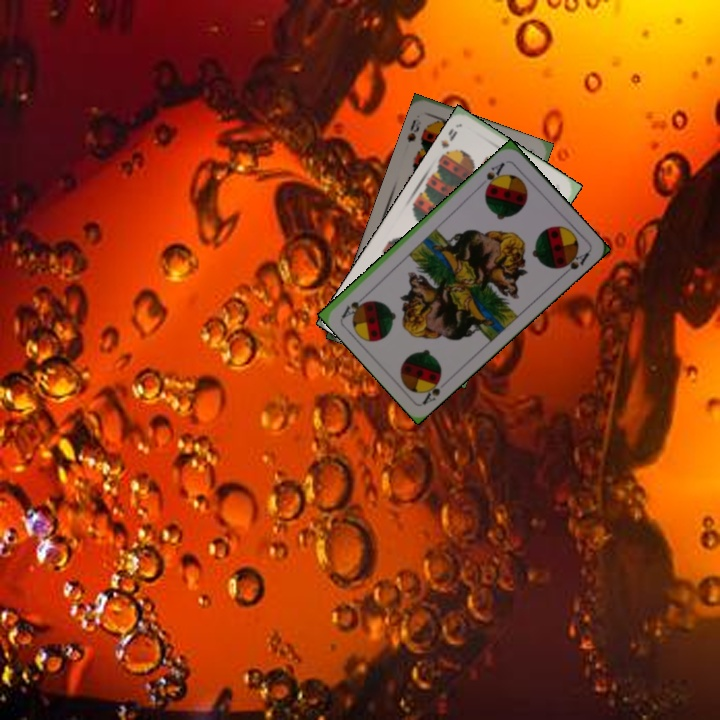S8: (403, 114, 424, 145)
S9: (436, 124, 460, 160)
SA: (417, 371, 445, 407), (481, 158, 507, 193)
